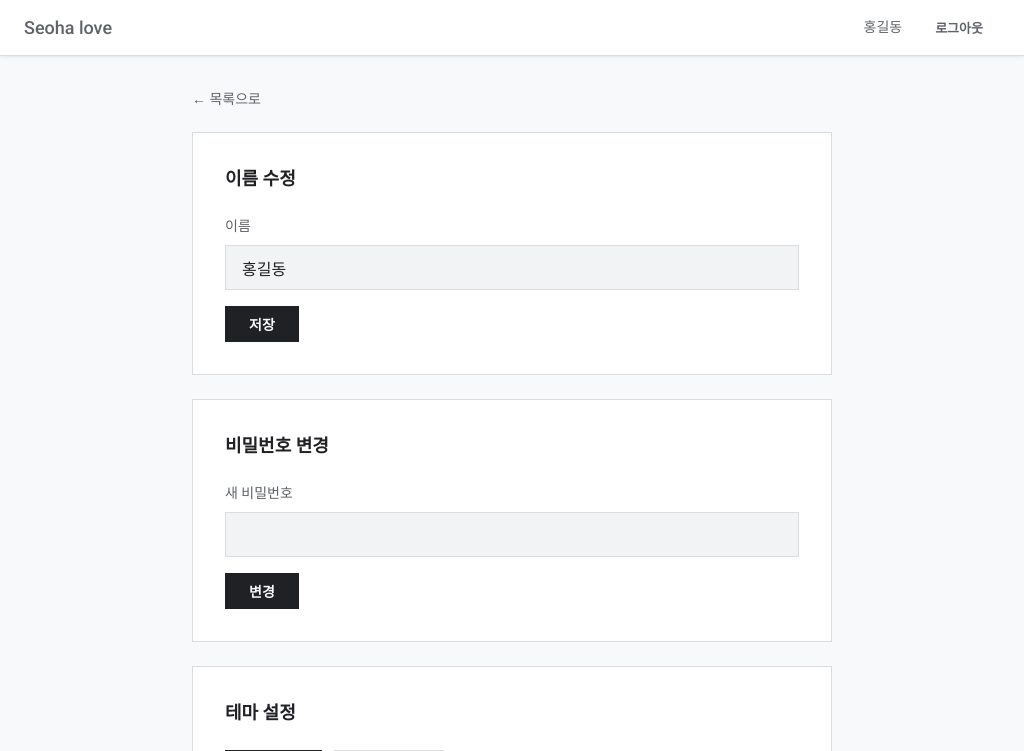
ProfilePage › 이름 수정 API 에러 시 에러 메시지가 표시된다
The image size is (1024, 751).
Click the button with test id "save-name-button" at (262, 324), box x1=225 y1=306 x2=299 y2=342
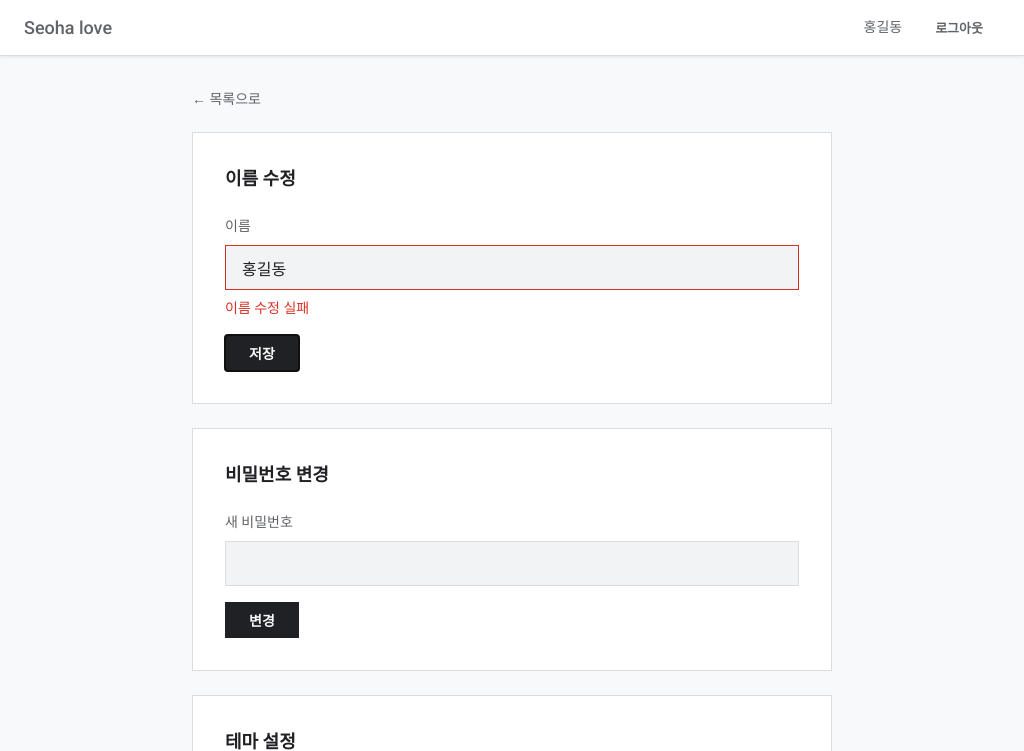
Check: the text "이름 수정 실패" is shown, box x1=225 y1=300 x2=309 y2=316
